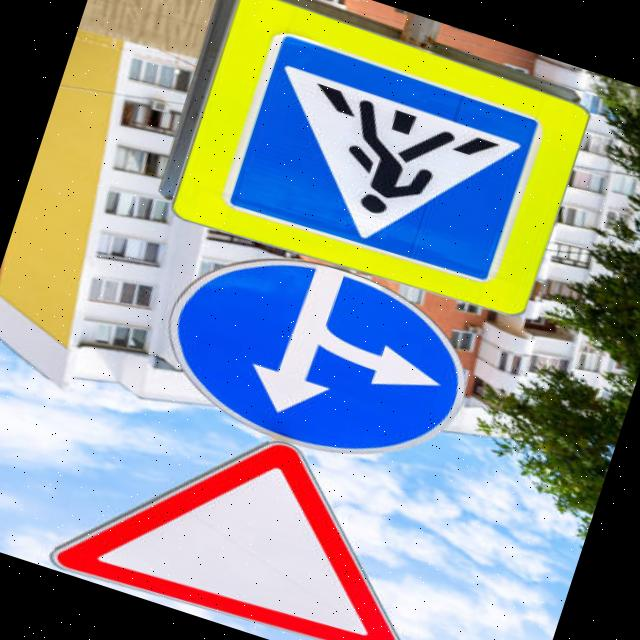crosswalk: (210, 19, 564, 298)
give_way: (39, 378, 472, 640)
